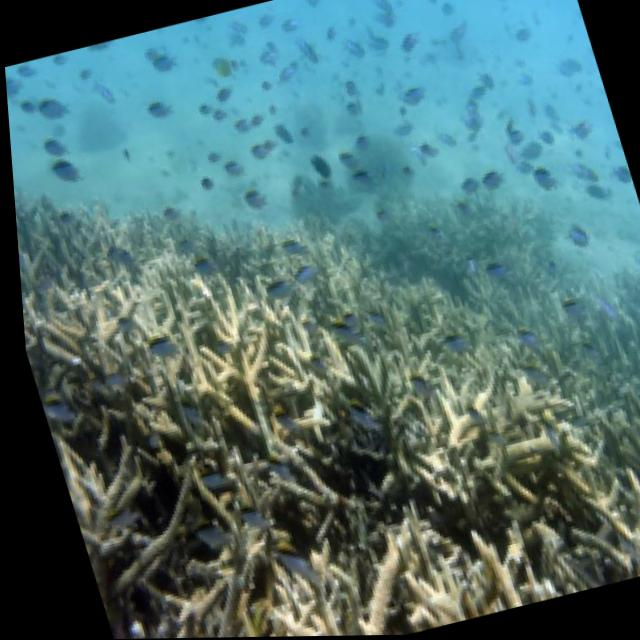Dead Coral: (10, 170, 640, 640)
